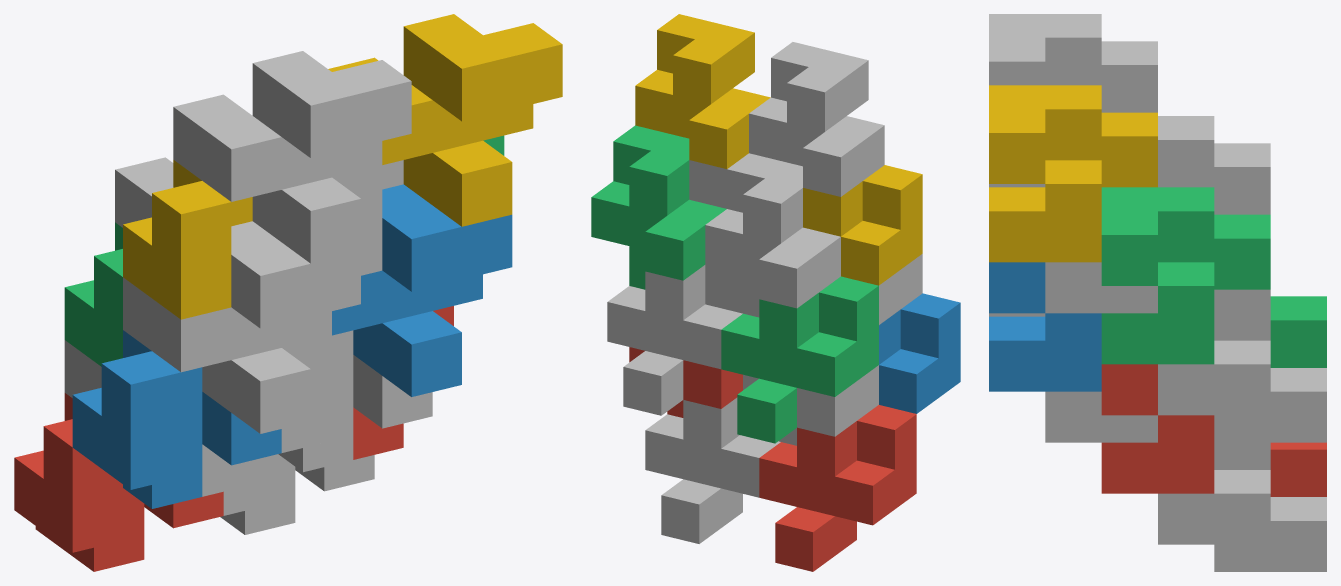
File: tiling.obj
The picture shows the model from 3 angles, left to right: view 1: azimuth 30°, elevation 25°; view 2: azimuth 150°, elevation 25°; view 3: azimuth 270°, elevation 25°; orthographic projection. The views are drawn at different scales.
Visible parts, largest first — view 1: copy_2_domain_4, copy_2_domain_8, copy_2_domain_2, copy_2_domain_6, copy_1_domain_2, copy_1_domain_1, copy_1_domain_4, copy_1_domain_6, copy_1_domain_5, copy_1_domain_3, copy_1_domain_8, copy_2_domain_1 (+2 smaller); view 2: copy_1_domain_1, copy_1_domain_3, copy_2_domain_4, copy_2_domain_3, copy_2_domain_8, copy_2_domain_7, copy_1_domain_7, copy_1_domain_5, copy_1_domain_4, copy_1_domain_2, copy_2_domain_1, copy_2_domain_5 (+2 smaller); view 3: copy_2_domain_8, copy_2_domain_7, copy_1_domain_7, copy_1_domain_5, copy_2_domain_4, copy_2_domain_6, copy_2_domain_5, copy_2_domain_3, copy_1_domain_6, copy_1_domain_8, copy_1_domain_3, copy_1_domain_1.
Boxes of the visible parts, left/top/right/bottom form: copy_2_domain_4: left=173, top=51, right=411, bottom=263; copy_2_domain_8: left=328, top=14, right=562, bottom=226; copy_2_domain_2: left=123, top=221, right=360, bottom=433; copy_2_domain_6: left=332, top=184, right=512, bottom=396; copy_1_domain_2: left=72, top=330, right=281, bottom=508; copy_1_domain_1: left=14, top=393, right=223, bottom=571; copy_1_domain_4: left=123, top=160, right=252, bottom=319; copy_1_domain_6: left=278, top=330, right=432, bottom=472; copy_1_domain_5: left=220, top=454, right=374, bottom=534; copy_1_domain_3: left=64, top=222, right=122, bottom=366; copy_1_domain_8: left=332, top=160, right=403, bottom=275; copy_2_domain_1: left=64, top=340, right=252, bottom=496; copy_1_domain_1: left=759, top=405, right=916, bottom=571; copy_1_domain_3: left=721, top=276, right=878, bottom=443; copy_2_domain_4: left=749, top=42, right=884, bottom=196; copy_2_domain_3: left=705, top=153, right=840, bottom=317; copy_2_domain_8: left=635, top=14, right=770, bottom=168; copy_2_domain_7: left=591, top=125, right=726, bottom=289; copy_1_domain_7: left=607, top=264, right=742, bottom=415; copy_1_domain_5: left=645, top=397, right=780, bottom=543; copy_1_domain_4: left=803, top=165, right=922, bottom=285; copy_1_domain_2: left=879, top=293, right=960, bottom=413; copy_2_domain_1: left=743, top=365, right=878, bottom=445; copy_2_domain_5: left=629, top=347, right=742, bottom=417; copy_2_domain_8: left=989, top=85, right=1157, bottom=262; copy_2_domain_7: left=1101, top=187, right=1270, bottom=364; copy_1_domain_7: left=1158, top=289, right=1326, bottom=442; copy_1_domain_5: left=1158, top=442, right=1326, bottom=571; copy_2_domain_4: left=989, top=14, right=1157, bottom=187; copy_2_domain_6: left=989, top=262, right=1101, bottom=391; copy_2_domain_5: left=1101, top=364, right=1214, bottom=493; copy_2_domain_3: left=1158, top=116, right=1270, bottom=214; copy_1_domain_6: left=1045, top=391, right=1157, bottom=442; copy_1_domain_8: left=1045, top=262, right=1157, bottom=313; copy_1_domain_3: left=1270, top=296, right=1326, bottom=367; copy_1_domain_1: left=1270, top=442, right=1326, bottom=496.
Size of the model in its own units: 8 by 10 by 6.
